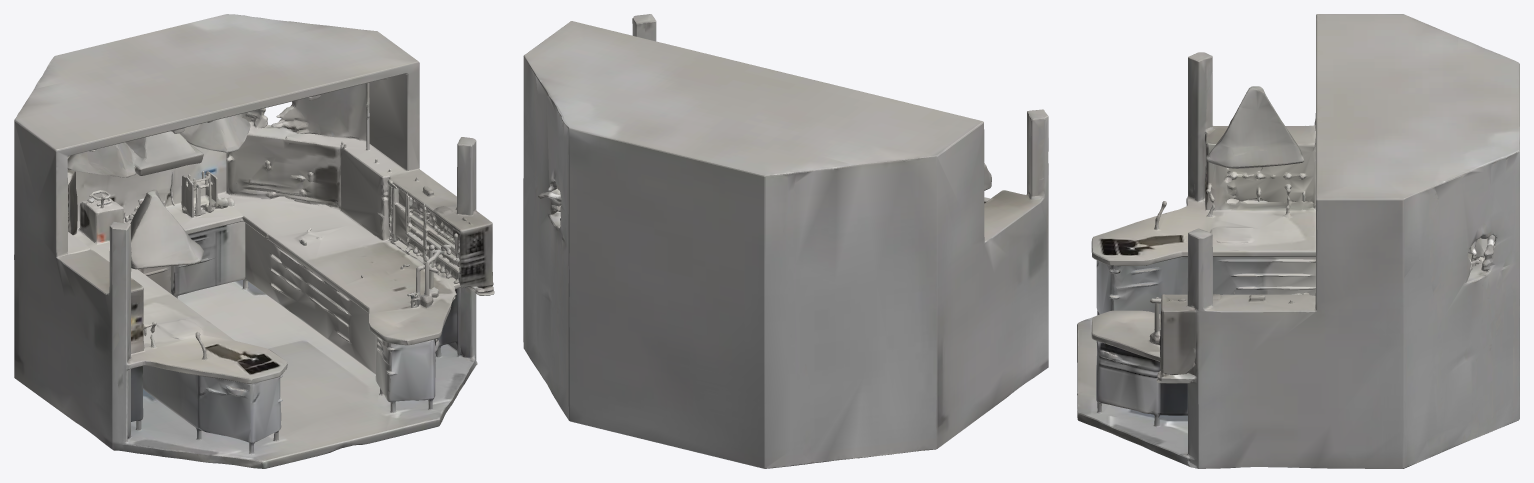
Rendered from lab_cluster.glb.
3 views of the same model, side by side, from view 1: azimuth 30°, elevation 25°; view 2: azimuth 150°, elevation 25°; view 3: azimuth 270°, elevation 25° (orthographic). The views are drawn at different scales.
Parts seen in each view (by area): view 1: model; view 2: model; view 3: model.
Part boxes in pixels (x1,y1,x2,y2): model: (14, 14, 494, 468); model: (523, 14, 1048, 468); model: (1077, 14, 1519, 468).
Size of the model in its own units: 1.91 by 1.3 by 1.92.
1 material, 1 textured.
